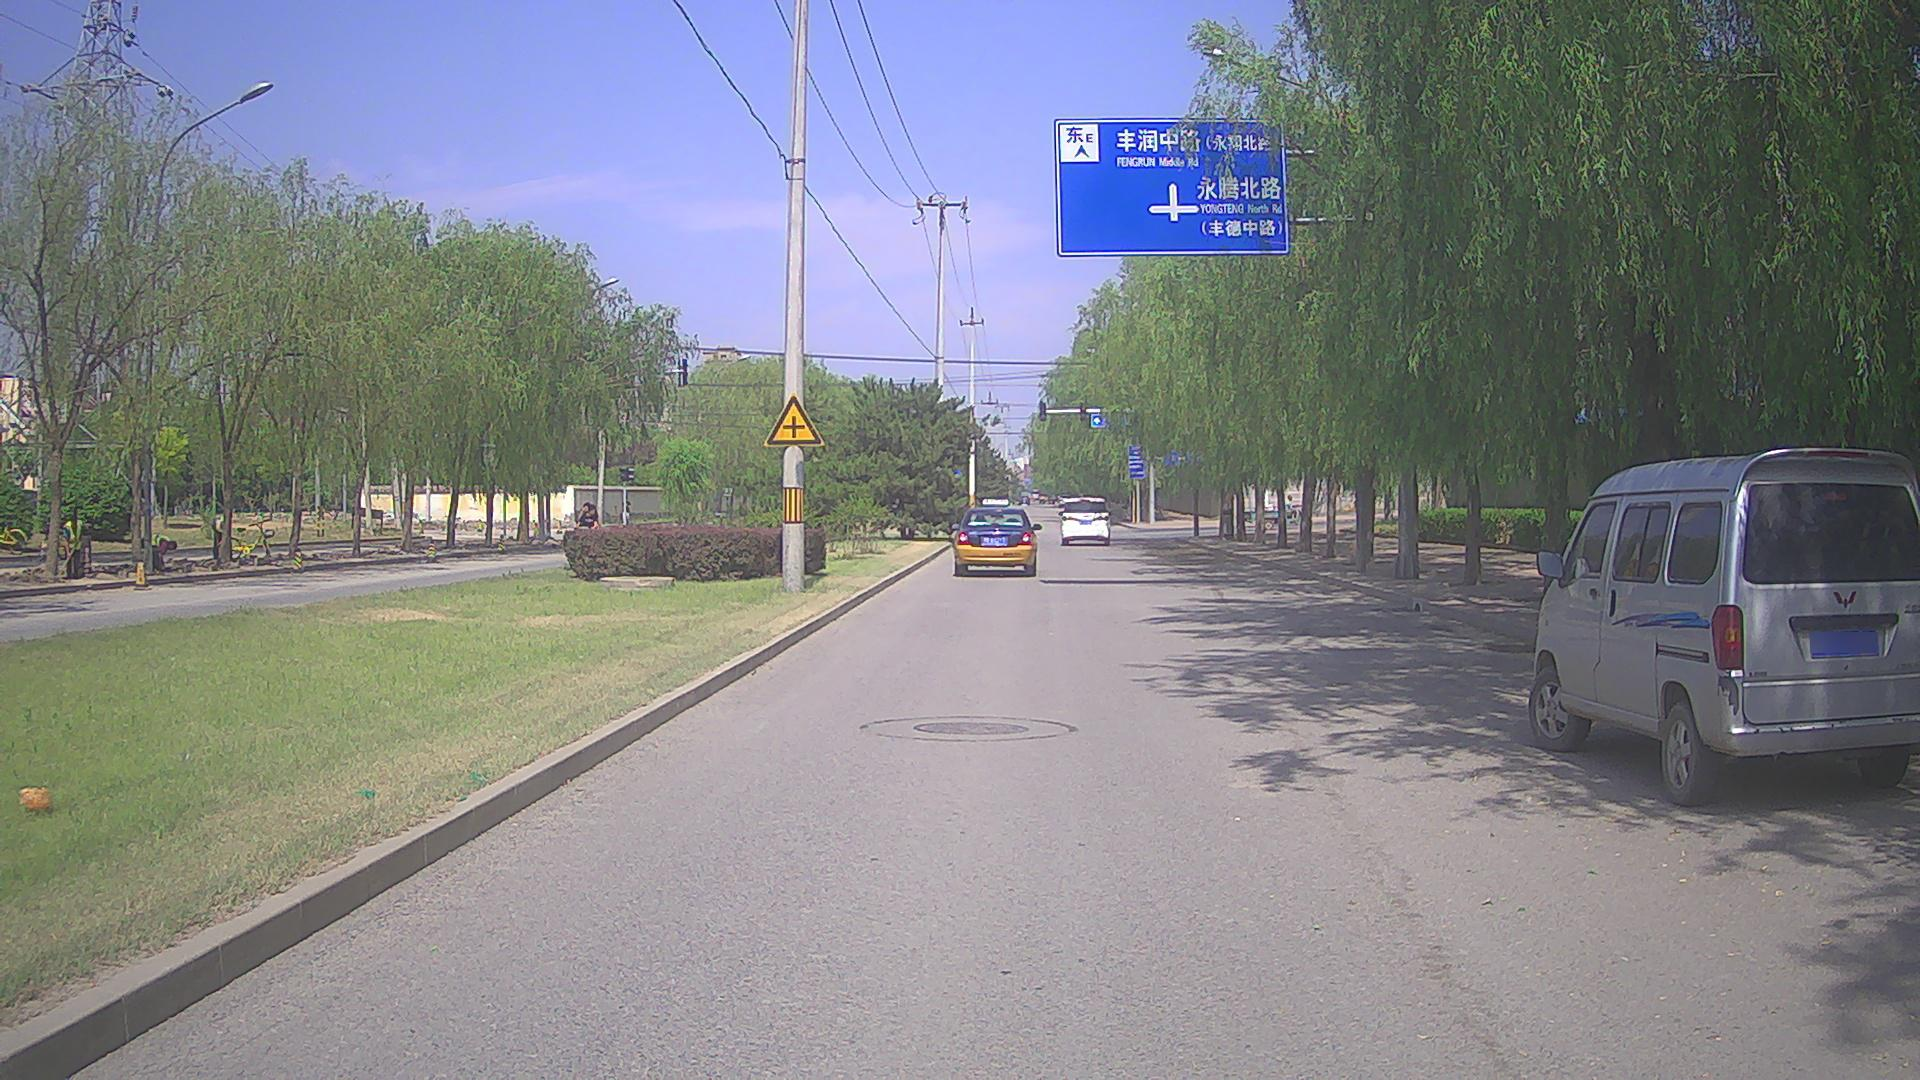bus: (1031, 488, 1039, 499)
car: (949, 497, 1041, 576), (1019, 495, 1030, 505)
ignore: (1030, 491, 1072, 505)
motorcyclist: (571, 502, 600, 547)
pedestrian: (620, 495, 632, 526)
tricyclelist: (1248, 495, 1307, 530)
van: (1529, 445, 1916, 806), (1058, 495, 1111, 547)
